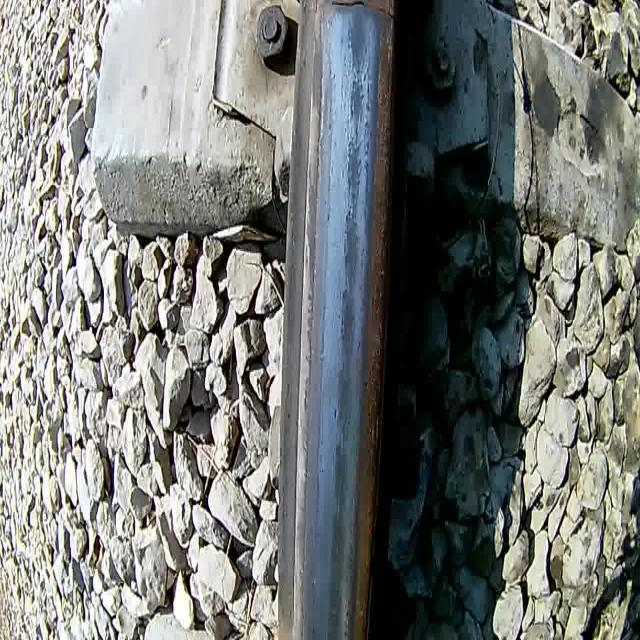Cracks: (362, 50, 372, 228), (358, 11, 374, 101), (344, 20, 356, 126), (334, 408, 354, 459), (343, 136, 354, 200), (344, 192, 356, 231), (355, 160, 362, 202), (360, 243, 367, 275)
Joint: (323, 0, 401, 32)
Squats: (344, 6, 376, 78), (332, 359, 357, 444), (339, 206, 363, 290), (329, 434, 354, 512), (327, 504, 350, 585), (341, 138, 365, 208), (322, 579, 347, 640), (338, 288, 357, 362), (346, 74, 368, 137)
